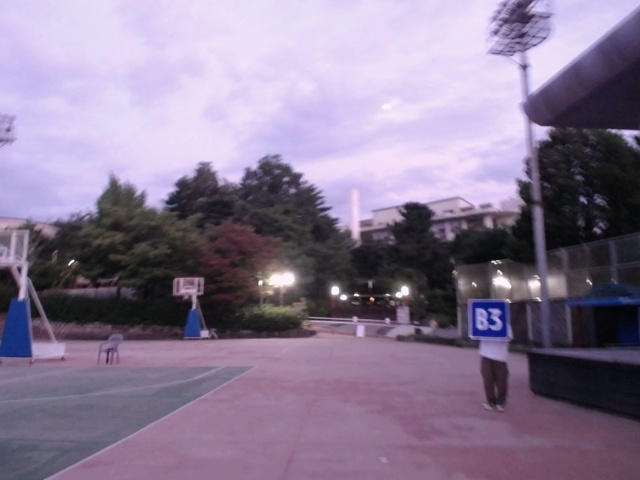delivery_b3: (467, 298, 511, 340)
